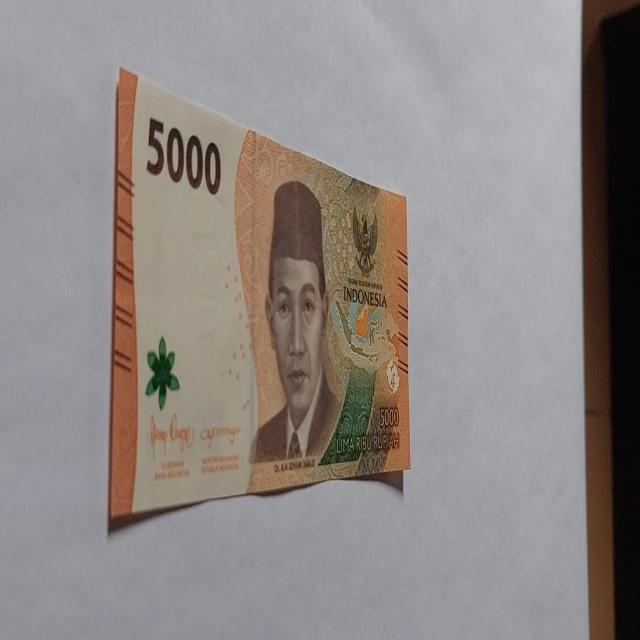lima ribu rupiah: (106, 68, 412, 536), (247, 178, 346, 468)
